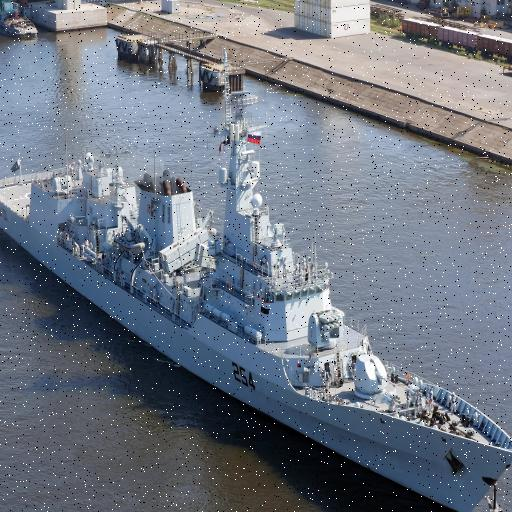Fragata: (1, 49, 512, 512)
